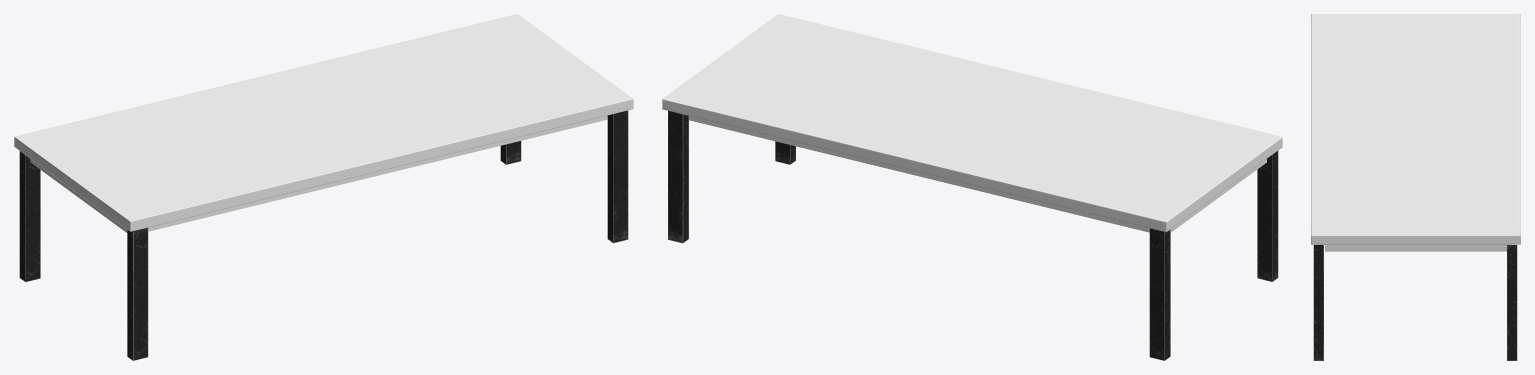
Rendered from table.glb.
The picture shows the model from 3 angles, left to right: view 1: azimuth 30°, elevation 25°; view 2: azimuth 150°, elevation 25°; view 3: azimuth 270°, elevation 25°; orthographic projection. The views are drawn at different scales.
Visible parts, largest first — view 1: table; view 2: table; view 3: table.
Part boxes in pixels (x1,y1,x2,y2): table: (14,14,633,360); table: (662,14,1282,360); table: (1311,14,1520,360).
Size of the model in its own units: 5 by 1.34 by 2.
Materials: 1 (1 with a texture image).
